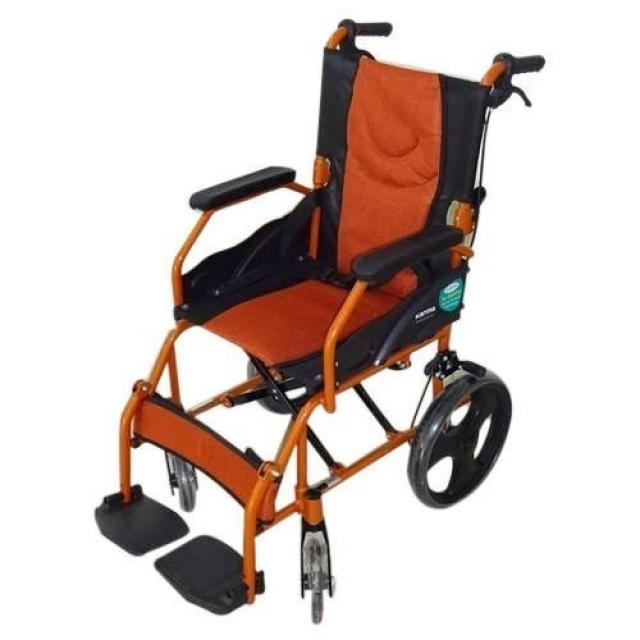wheelchair: (83, 4, 566, 634)
